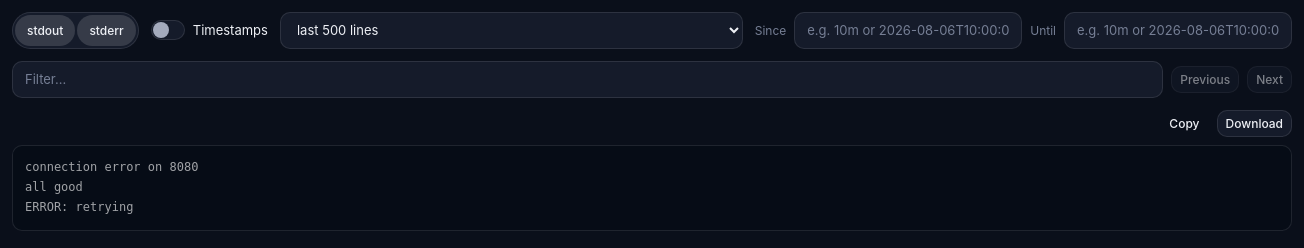
Test case: ContainerLogsView (REQ-30, REQ-31) › highlights every match of the searched text and reports the match count
expect the text "all good" is shown: met, box [25,180,83,194]
Type "error" into the field named "Search the stream" at (588, 79), box [12,61,1163,98]
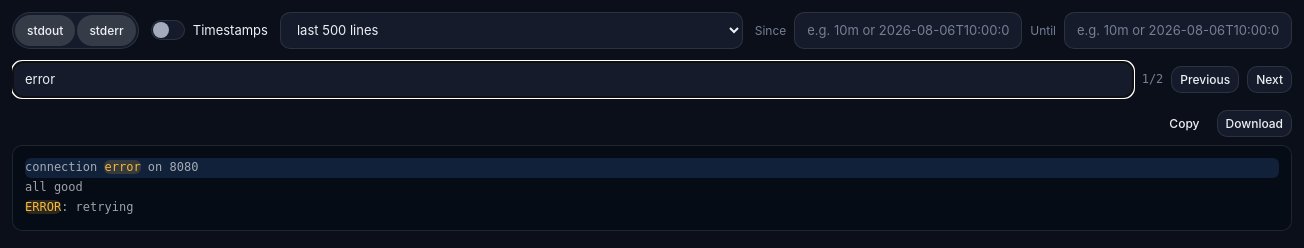
expect the text "1/2" is shown: met, box [1142,71,1163,88]
